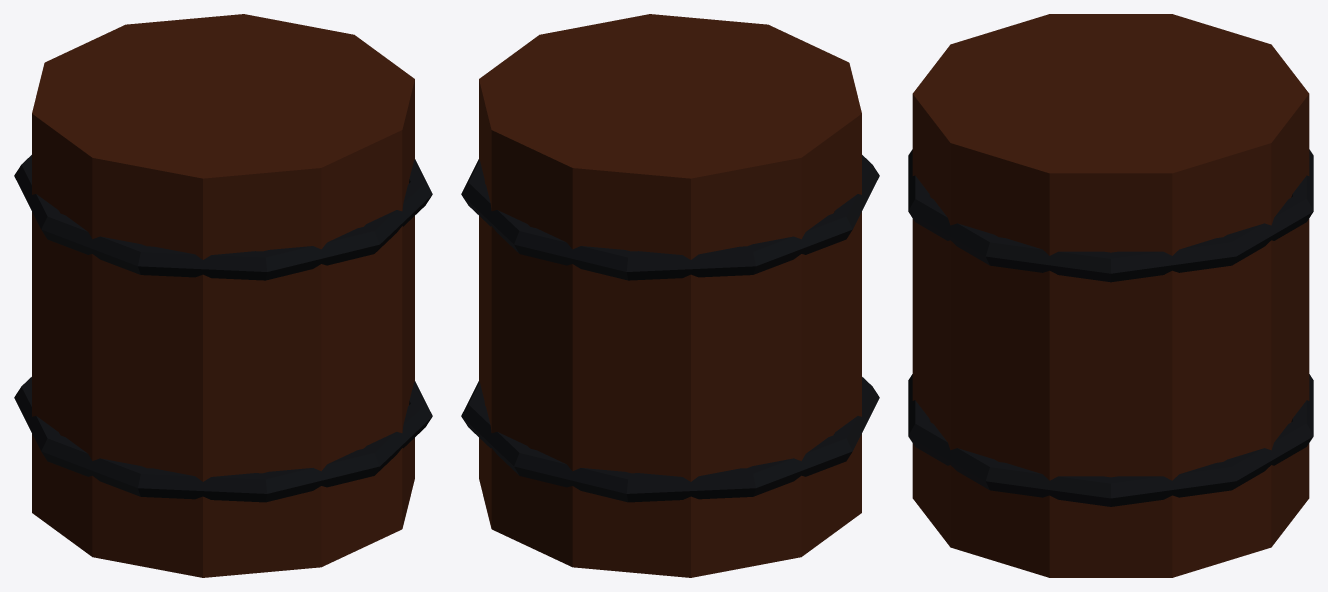
The model's file is barrel.obj.
3 views of the same model, side by side, from view 1: azimuth 30°, elevation 25°; view 2: azimuth 150°, elevation 25°; view 3: azimuth 270°, elevation 25° (orthographic).
Parts seen in each view (by area): view 1: barrel; view 2: barrel; view 3: barrel.
Boxes of the visible parts, x1,y1,x2,y2 form: barrel: [14, 14, 432, 577]; barrel: [461, 14, 879, 577]; barrel: [908, 14, 1313, 577].
Bounding box in the file's own units: 0.86 × 0.9 × 0.8179.
